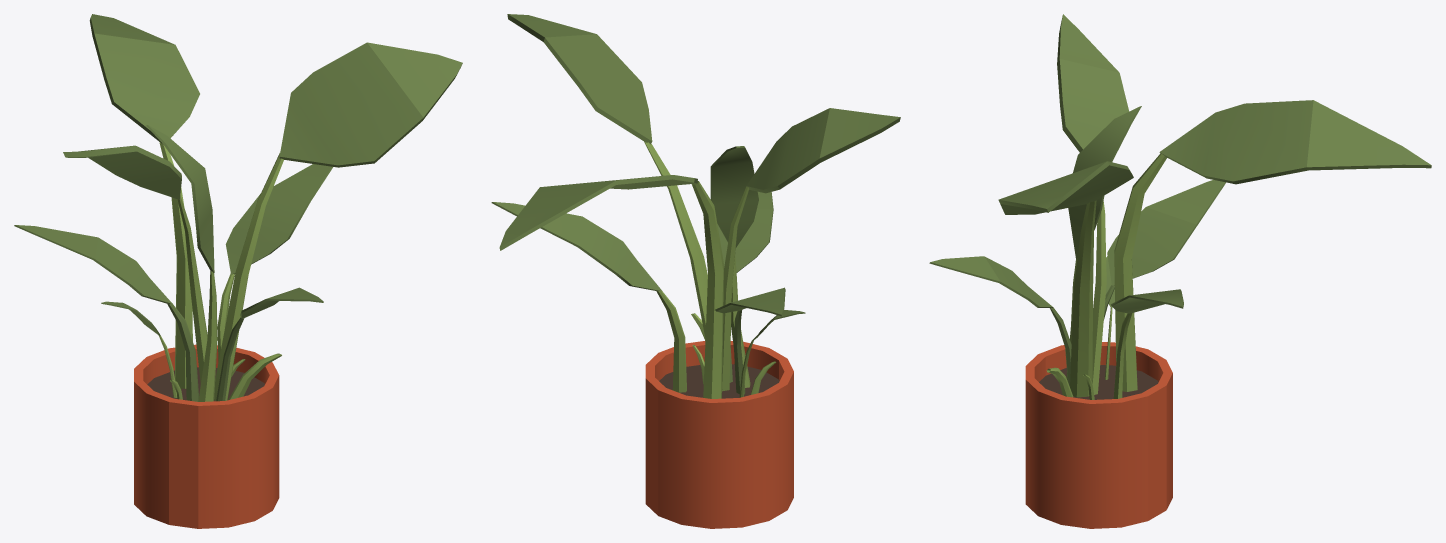
The model's file is Plant 2fbx.fbx.
3 views of the same model, side by side, from view 1: azimuth 30°, elevation 25°; view 2: azimuth 150°, elevation 25°; view 3: azimuth 270°, elevation 25° (orthographic). The views are drawn at different scales.
Visible parts, largest first — view 1: Plane.082; view 2: Plane.082; view 3: Plane.082.
Part boxes in pixels (x1,y1,x2,y2): Plane.082: (14,14,462,528); Plane.082: (491,14,900,528); Plane.082: (929,14,1431,528).
Size of the model in its own units: 7212 by 7873 by 7241.
